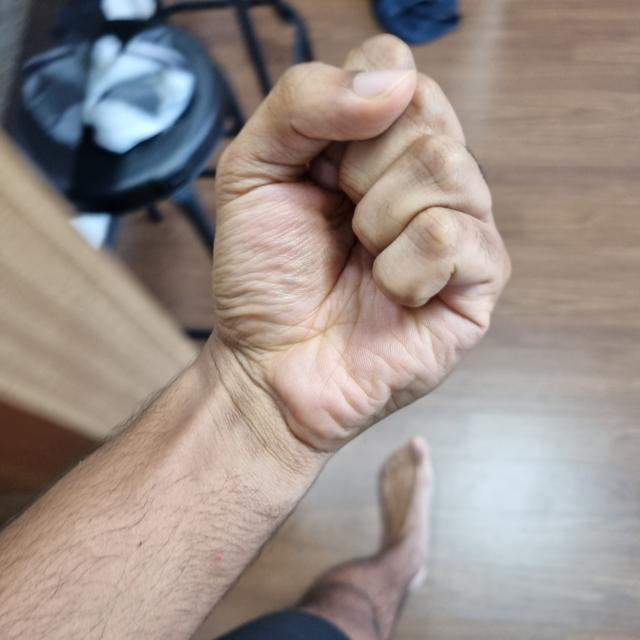Rock: (303, 447, 430, 639)
